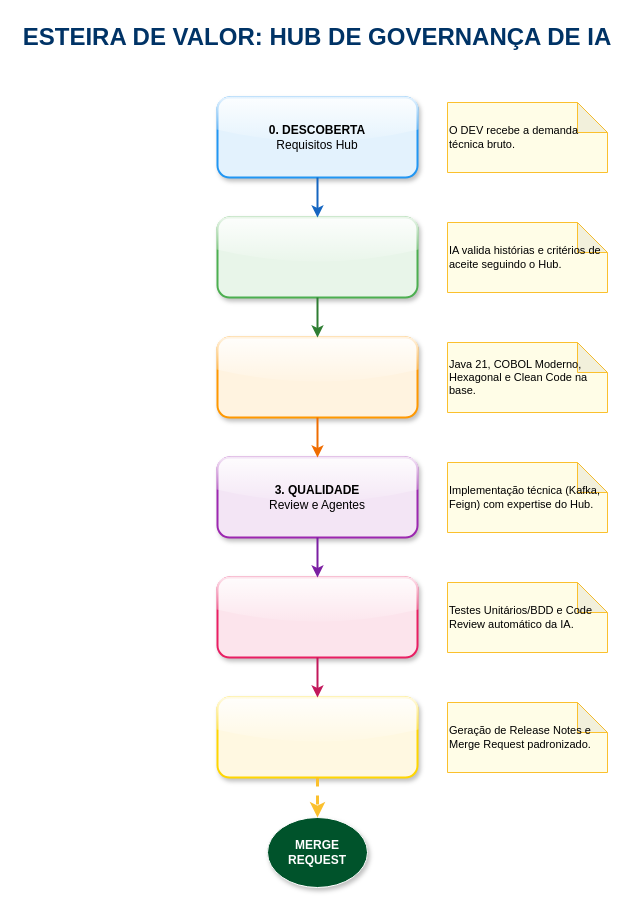
The diagram is 634 pixels wide and 912 high, and some of its shapes have lost their labels. Here are the shapes that lost their labels. From the top down, the centre of each, then its label:
At point 318,258: "2. REFINAMENTO Templates: Fase 1".
At point 318,378: "2. DESENHO TÉCNICO Arquitetura e Skills".
At point 318,618: "4. ENTREGA Deploy e Artefatos".
At point 318,738: "5. MODERNIZAÇÃO Legado e Otimização".
